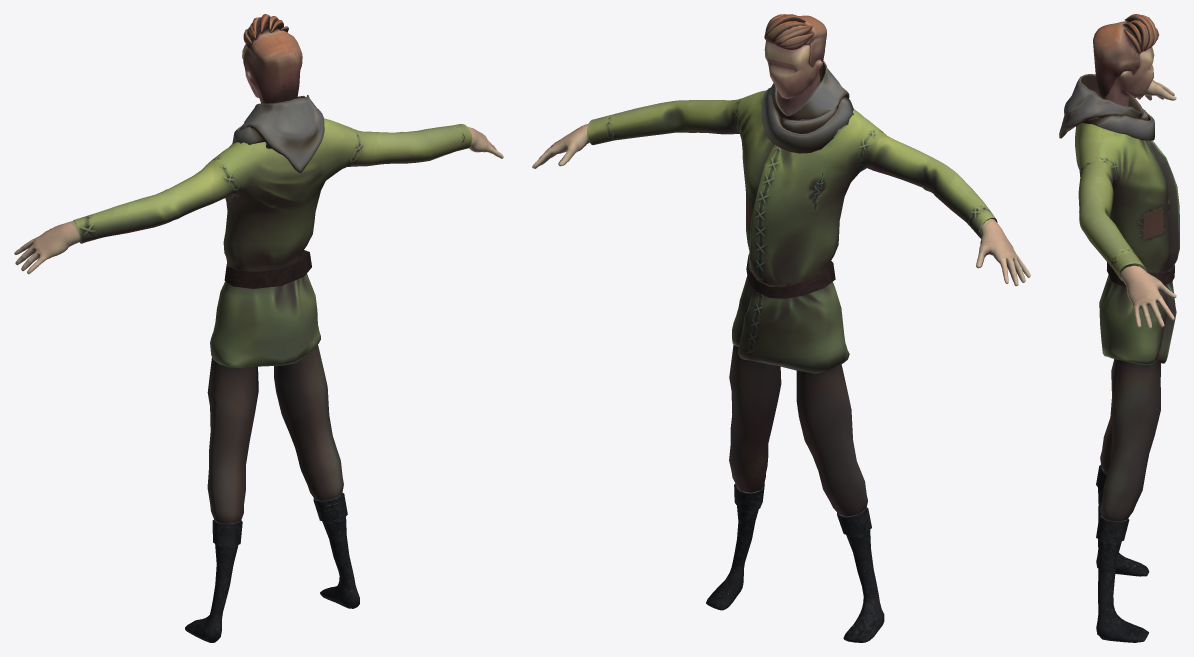
3 renders of one model, left to right at view 1: azimuth 30°, elevation 25°; view 2: azimuth 150°, elevation 25°; view 3: azimuth 270°, elevation 25°, orthographic. The views are drawn at different scales.
Visible parts, largest first — view 1: mc_clothing, mc_body; view 2: mc_clothing, mc_body; view 3: mc_clothing, mc_body.
Part boxes in pixels (x1,y1,x2,y2): mc_clothing: [73, 95, 472, 642]; mc_body: [14, 14, 503, 274]; mc_clothing: [587, 61, 997, 642]; mc_body: [532, 14, 1030, 286]; mc_clothing: [1059, 74, 1179, 642]; mc_body: [1093, 14, 1176, 328].
Size of the model in its own units: 33.26 by 150 by 180.
